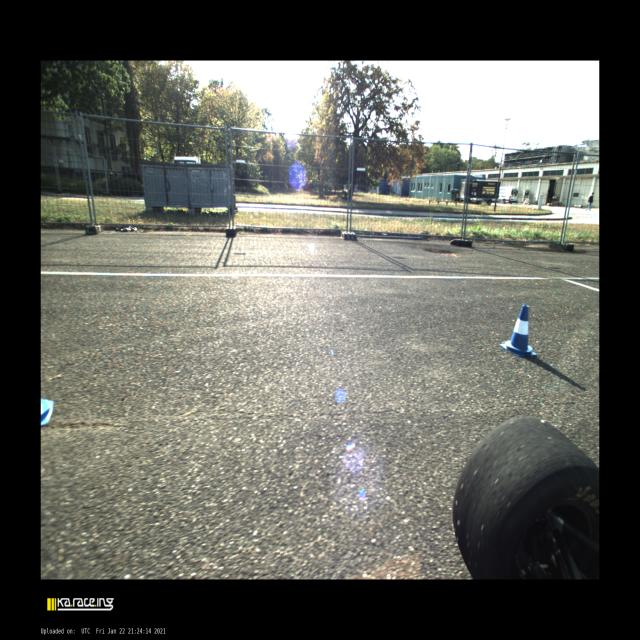blue_cone: (500, 304, 536, 356)
